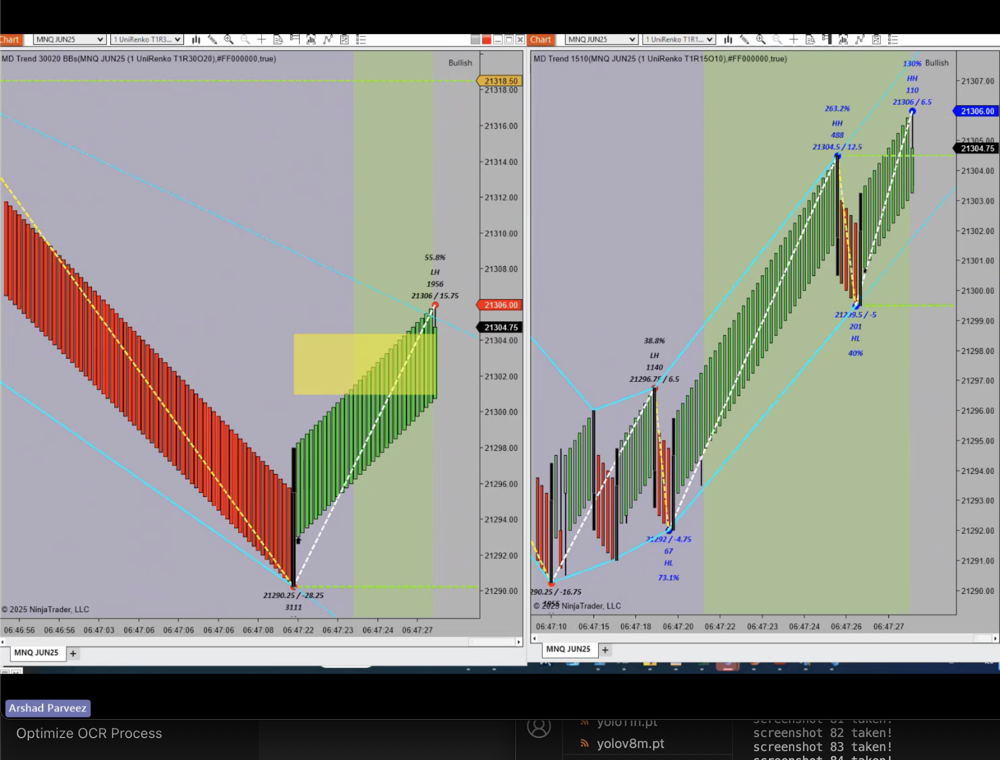HH: (827, 115, 849, 132), (903, 69, 923, 85)
HL: (844, 329, 864, 349), (661, 557, 679, 572)
LH: (644, 347, 667, 364), (424, 265, 450, 280)
